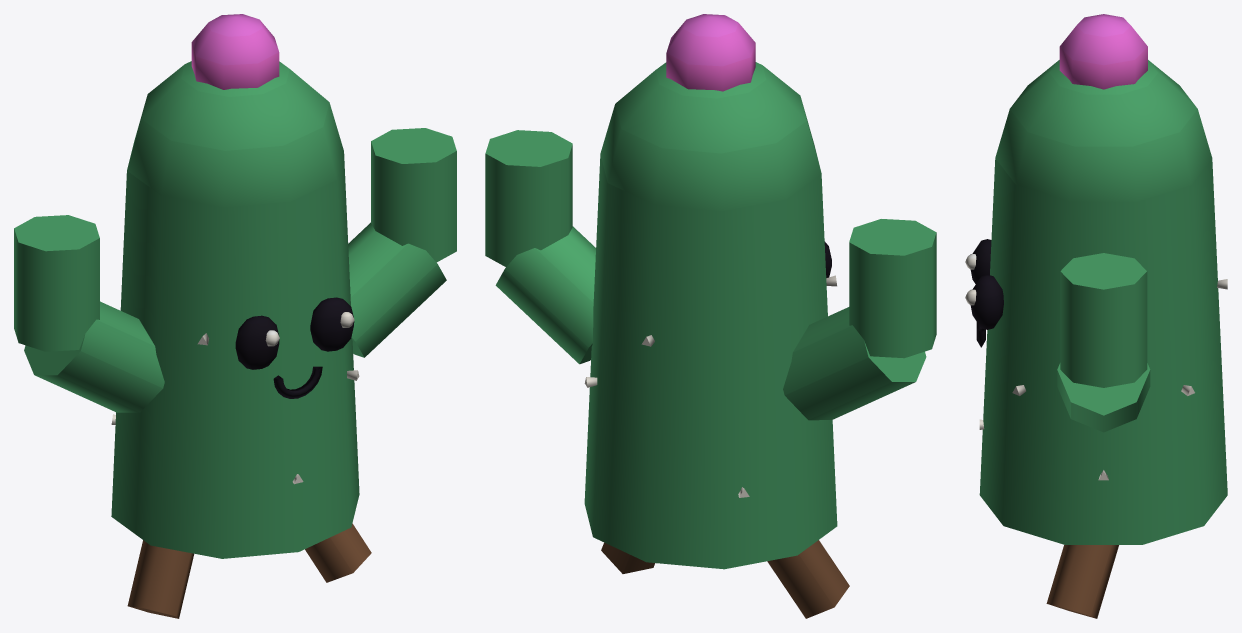
The model's file is monster_cactus.glb.
The picture shows the model from 3 angles, left to right: view 1: azimuth 30°, elevation 25°; view 2: azimuth 150°, elevation 25°; view 3: azimuth 270°, elevation 25°; orthographic projection. The views are drawn at different scales.
Parts seen in each view (by area): view 1: body_t0_palette, legl_t0_palette, legr_t0_palette; view 2: body_t0_palette, legl_t0_palette, legr_t0_palette; view 3: body_t0_palette, legr_t0_palette.
Part boxes in pixels (left/top/right/bottom): body_t0_palette: left=14, top=14, right=456, bottom=558; legl_t0_palette: left=127, top=540, right=194, bottom=618; legr_t0_palette: left=305, top=523, right=371, bottom=582; body_t0_palette: left=485, top=14, right=936, bottom=569; legl_t0_palette: left=767, top=540, right=849, bottom=618; legr_t0_palette: left=601, top=542, right=655, bottom=573; body_t0_palette: left=965, top=14, right=1227, bottom=544; legr_t0_palette: left=1046, top=545, right=1118, bottom=618.
Bounding box in the file's own units: 0.316 × 0.3975 × 0.1694.
